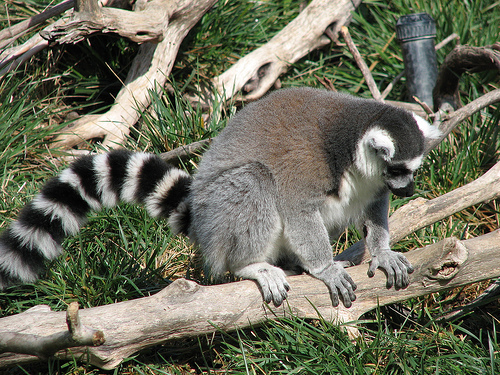cat: (0, 84, 444, 307)
